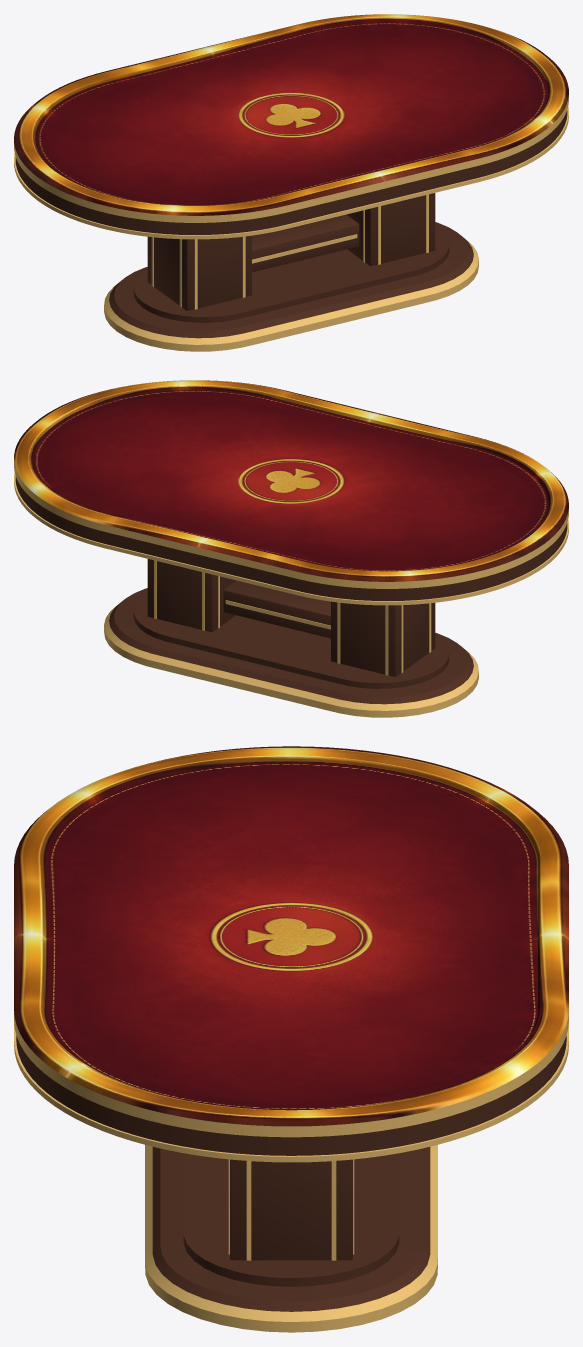
The model's file is table.fbx.
The picture shows the model from 3 angles, top to bottom: view 1: azimuth 30°, elevation 25°; view 2: azimuth 150°, elevation 25°; view 3: azimuth 270°, elevation 25°; orthographic projection. The views are drawn at different scales.
Visible parts, largest first — view 1: Table, Table base; view 2: Table, Table base; view 3: Table, Table base.
Part boxes in pixels (x1=…): Table: x1=14, y1=14, x2=568, y2=239; Table base: x1=104, y1=193, x2=478, y2=351; Table: x1=14, y1=380, x2=568, y2=605; Table base: x1=104, y1=559, x2=478, y2=717; Table: x1=14, y1=746, x2=568, y2=1162; Table base: x1=145, y1=1145, x2=437, y2=1332.
Bounding box in the file's own units: 2.32 × 0.775 × 1.44.
